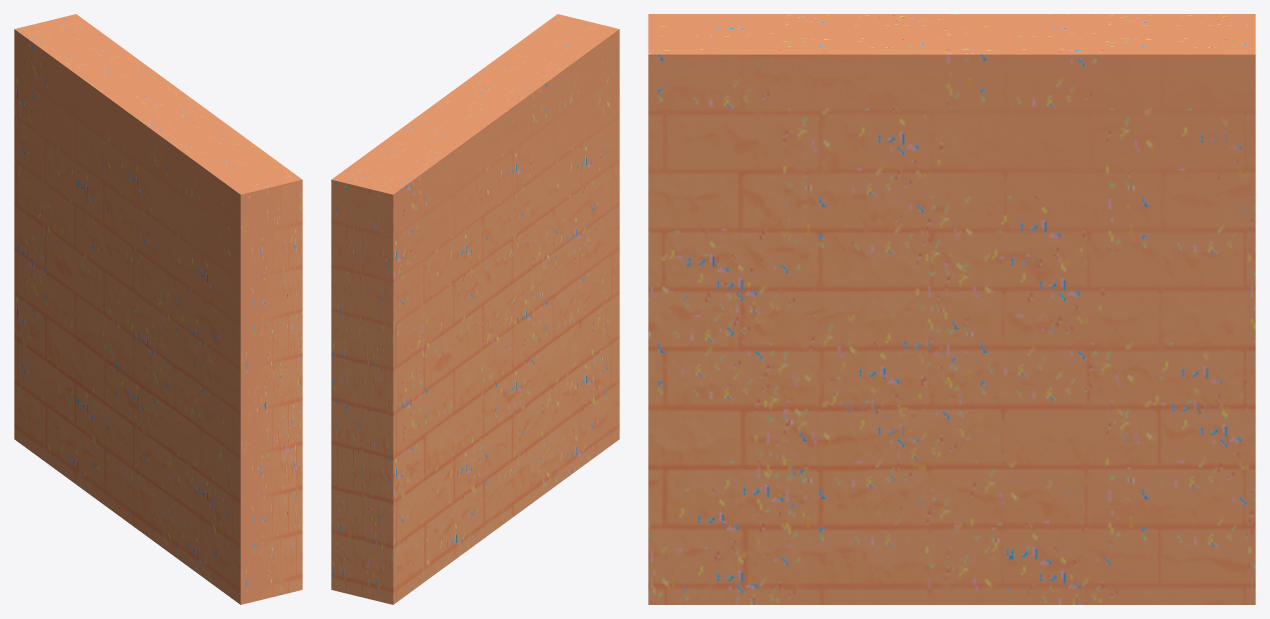
File: icduvar.fbx
The picture shows the model from 3 angles, left to right: view 1: azimuth 30°, elevation 25°; view 2: azimuth 150°, elevation 25°; view 3: azimuth 270°, elevation 25°; orthographic projection. The views are drawn at different scales.
Parts seen in each view (by area): view 1: Cube.005; view 2: Cube.005; view 3: Cube.005.
Boxes of the visible parts, <box> form: Cube.005: <box>14,14,302,604</box>; Cube.005: <box>331,14,619,604</box>; Cube.005: <box>648,14,1255,604</box>.
Bounding box in the file's own units: 63.17 × 400 × 400.
1 material, 1 textured.
